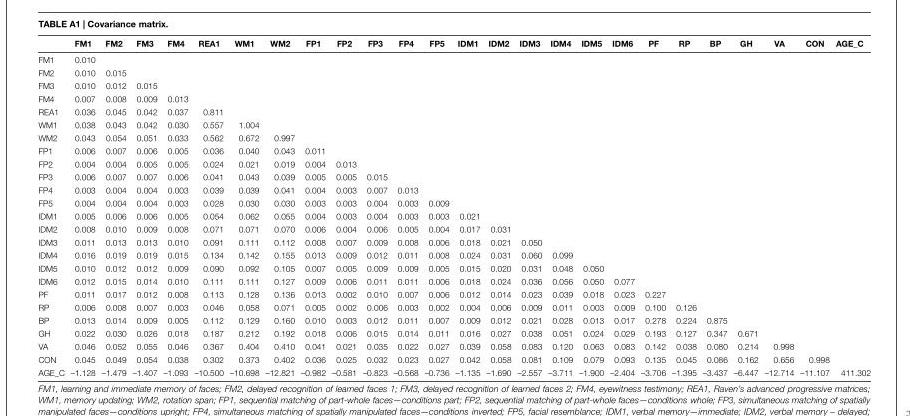table: (38, 37, 871, 376)
table column: (832, 37, 871, 376), (226, 37, 262, 376), (262, 37, 298, 376), (761, 37, 797, 376), (191, 37, 226, 376), (797, 37, 832, 376), (67, 37, 98, 376), (98, 37, 129, 376), (129, 37, 160, 376), (160, 37, 191, 376), (298, 37, 329, 376), (359, 37, 390, 376), (390, 37, 421, 376), (421, 37, 452, 376), (452, 37, 483, 376), (483, 37, 514, 376), (514, 37, 545, 376), (545, 37, 576, 376), (576, 37, 607, 376), (607, 37, 638, 376), (638, 37, 669, 376), (699, 37, 730, 376), (730, 37, 761, 376), (329, 37, 359, 376), (669, 37, 699, 376), (38, 37, 67, 376)
table column header: (38, 37, 871, 50)
table row: (38, 50, 871, 65), (38, 260, 871, 274), (38, 37, 871, 50), (38, 65, 871, 78), (38, 78, 871, 91), (38, 91, 871, 104), (38, 104, 871, 117), (38, 117, 871, 130), (38, 130, 871, 143), (38, 143, 871, 156), (38, 156, 871, 169), (38, 169, 871, 182), (38, 182, 871, 195), (38, 195, 871, 208), (38, 208, 871, 221), (38, 221, 871, 234), (38, 234, 871, 247), (38, 247, 871, 260), (38, 274, 871, 287), (38, 287, 871, 300), (38, 300, 871, 313), (38, 313, 871, 326), (38, 326, 871, 339), (38, 339, 871, 352), (38, 352, 871, 365), (38, 365, 871, 376)
